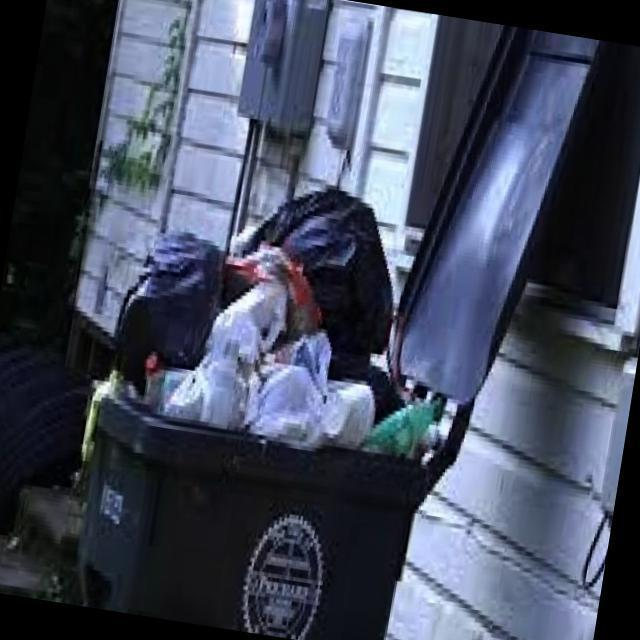garbage: (96, 150, 482, 484)
